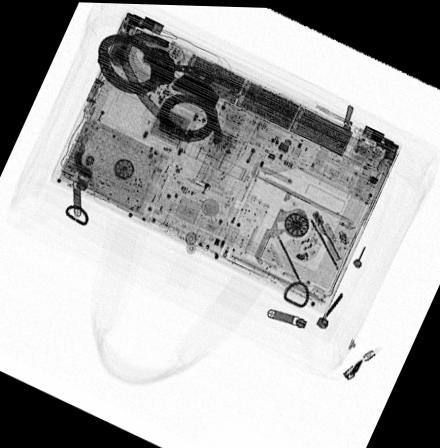HandCuffs: (96, 30, 224, 147)
